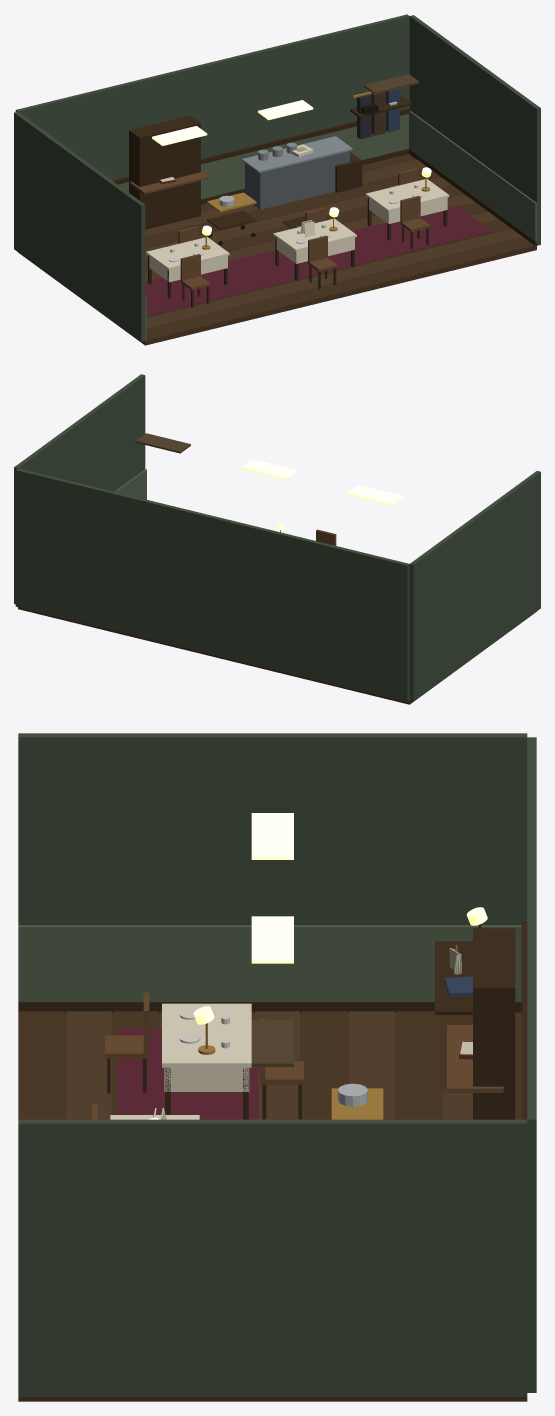
The model's file is dining.glb.
3 renders of one model, top to bottom at view 1: azimuth 30°, elevation 25°; view 2: azimuth 150°, elevation 25°; view 3: azimuth 270°, elevation 25°, orthographic. The views are drawn at different scales.
Parts seen in each view (by area): view 1: WallBack, WallLeft, WallRight, Runner, WineCab, BandRight, Plank0, Plank1, BandBack, PantryCounter, Floor, Plank8 (+28 smaller); view 2: WallBack, WallLeft, WallRight, Floor, CeilLamp0, CeilLamp1, CeilLamp2, BandRight; view 3: WallRight, WallLeft, BandLeft, WineCab, WallBack, Runner, T0Top, Plank0, Floor, Plank8, Plank1, Plank6 (+16 smaller).
Part boxes in pixels (x1,y1,x2,y2): WallBack: (15, 14, 409, 180); WallLeft: (14, 111, 145, 342); WallRight: (409, 15, 540, 245); Runner: (145, 205, 491, 315); WineCab: (129, 115, 200, 229); BandRight: (409, 111, 536, 242); Plank0: (147, 237, 534, 340); Plank1: (147, 228, 522, 328); BandBack: (118, 113, 408, 199); PantryCounter: (245, 151, 349, 209); Floor: (18, 154, 536, 345); Plank8: (145, 170, 440, 248); WallBack: (15, 468, 409, 701); WallLeft: (409, 471, 540, 701); WallRight: (14, 374, 145, 604); Floor: (18, 607, 536, 704); CeilLamp0: (347, 485, 402, 505); CeilLamp1: (241, 459, 296, 479); CeilLamp2: (135, 433, 190, 453); BandRight: (114, 469, 146, 499); WallRight: (18, 1119, 527, 1396); WallLeft: (18, 733, 527, 925); BandLeft: (18, 925, 521, 1001); WineCab: (473, 928, 515, 1119); WallBack: (527, 737, 536, 1392); Runner: (117, 1028, 258, 1119); T0Top: (162, 1003, 251, 1067); Plank0: (19, 1011, 64, 1119); Floor: (18, 1012, 527, 1401); Plank8: (396, 1011, 441, 1119); Plank1: (66, 1011, 111, 1119); Plank6: (302, 1011, 347, 1119).
Size of the model in its own units: 9.8 by 3.3 by 5.5.
